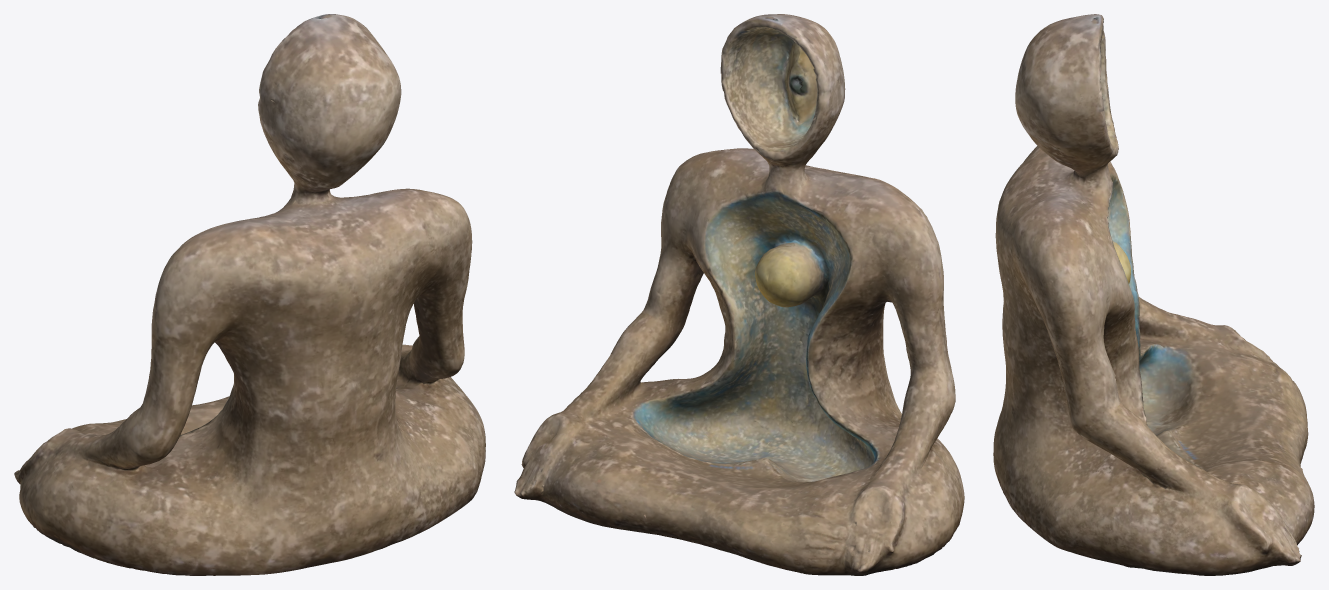
The model's file is meditating.glb.
3 renders of one model, left to right at view 1: azimuth 30°, elevation 25°; view 2: azimuth 150°, elevation 25°; view 3: azimuth 270°, elevation 25°, orthographic. The views are drawn at different scales.
Parts seen in each view (by area): view 1: low.001; view 2: low.001; view 3: low.001.
Part boxes in pixels (x1=…): low.001: x1=14, y1=14, x2=485, y2=575; low.001: x1=514, y1=14, x2=964, y2=575; low.001: x1=993, y1=14, x2=1314, y2=575.
Size of the model in its own units: 26.66 by 29.18 by 18.11.
Materials: 1 (1 with a texture image).
